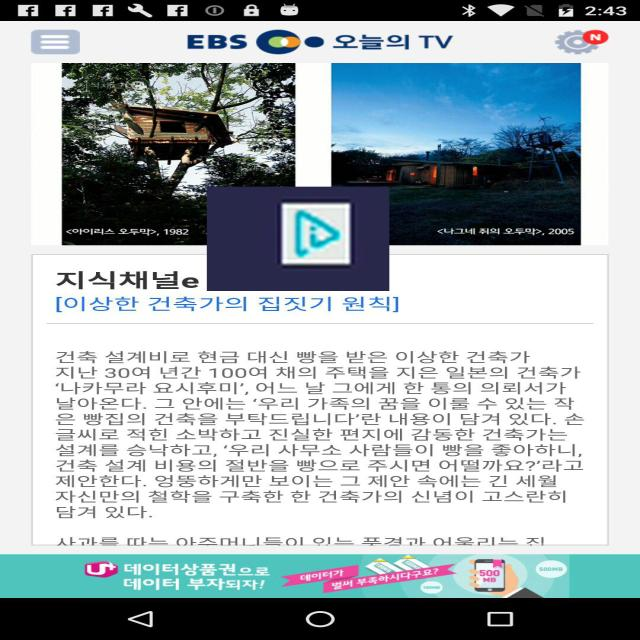sneaking: (207, 187, 389, 291)
